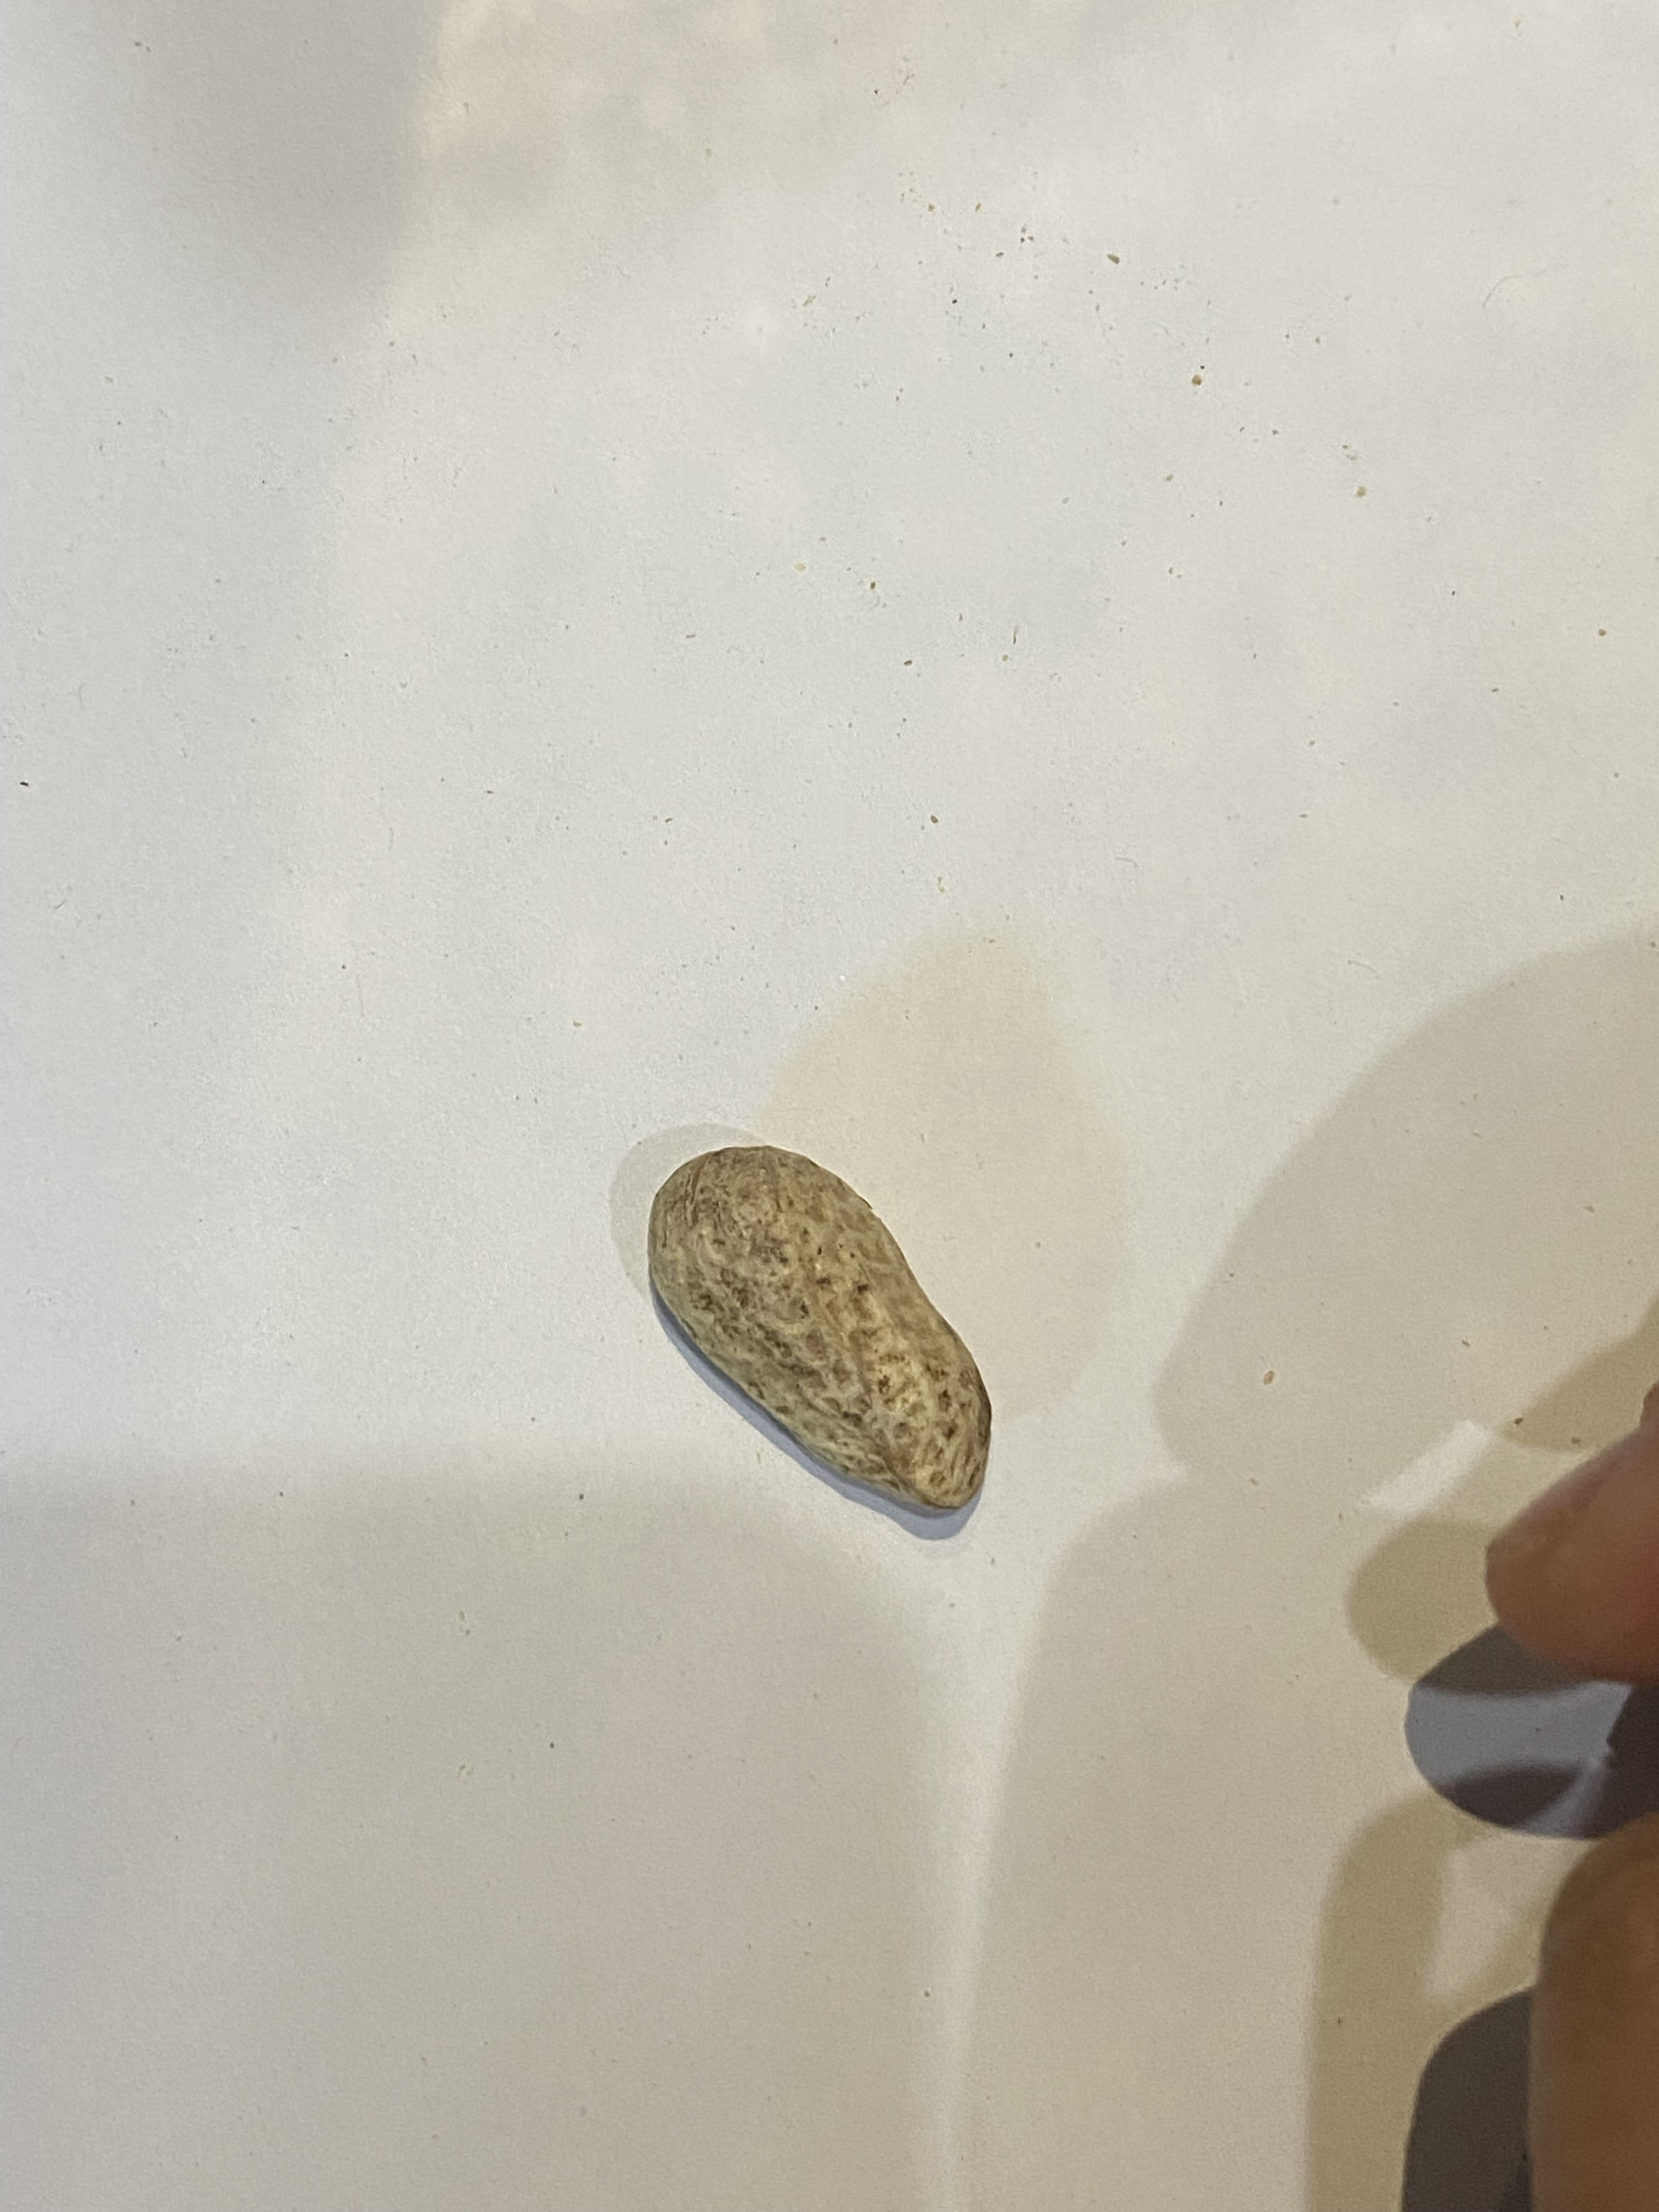kacang1: (636, 1120, 995, 1524)
